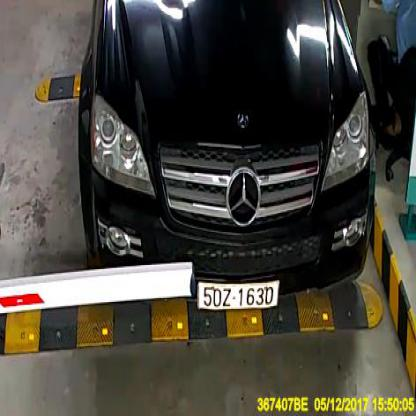biensoxe: (197, 280, 280, 309)
